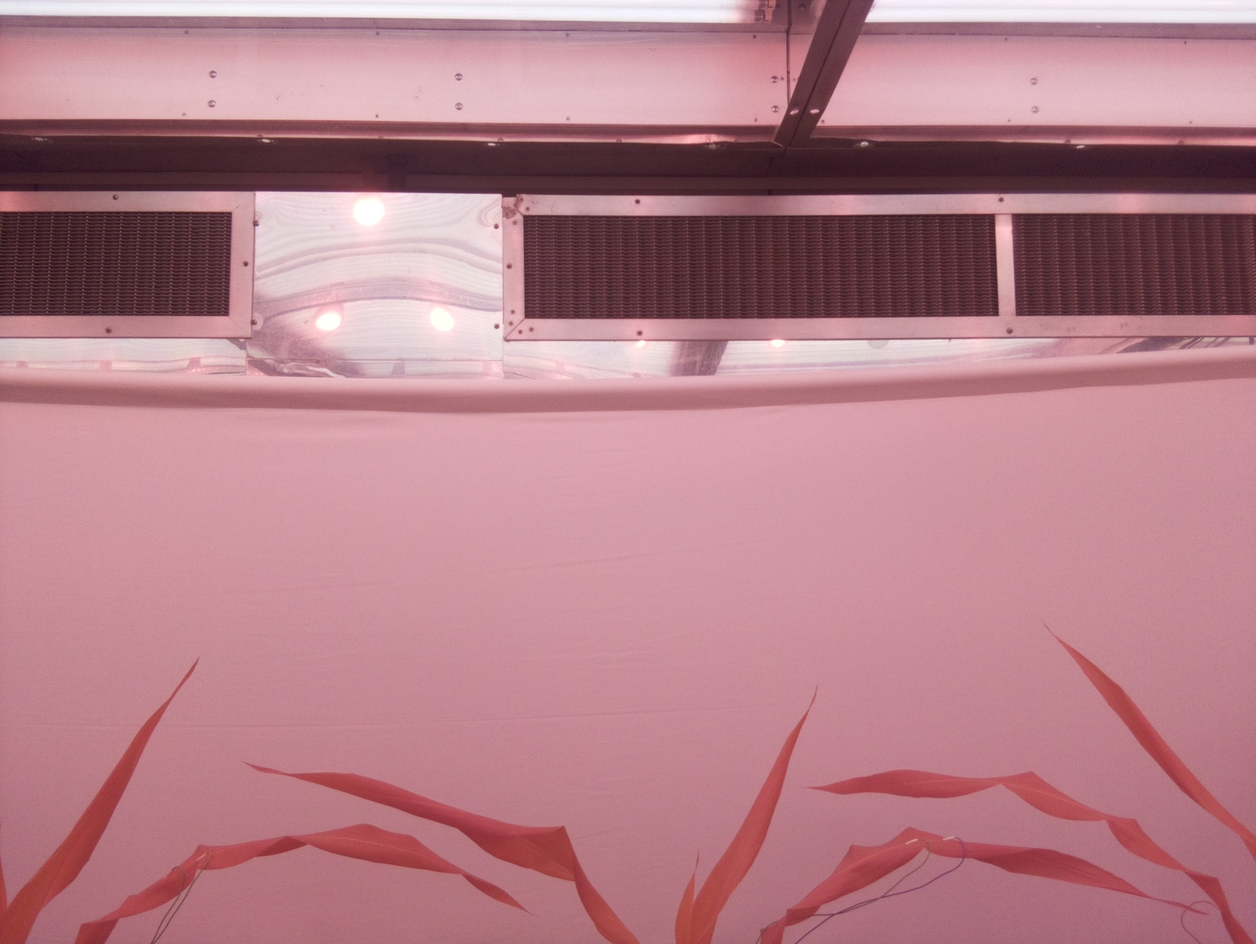maize: (242, 681, 1211, 944), (0, 653, 534, 944), (806, 618, 1256, 944)
